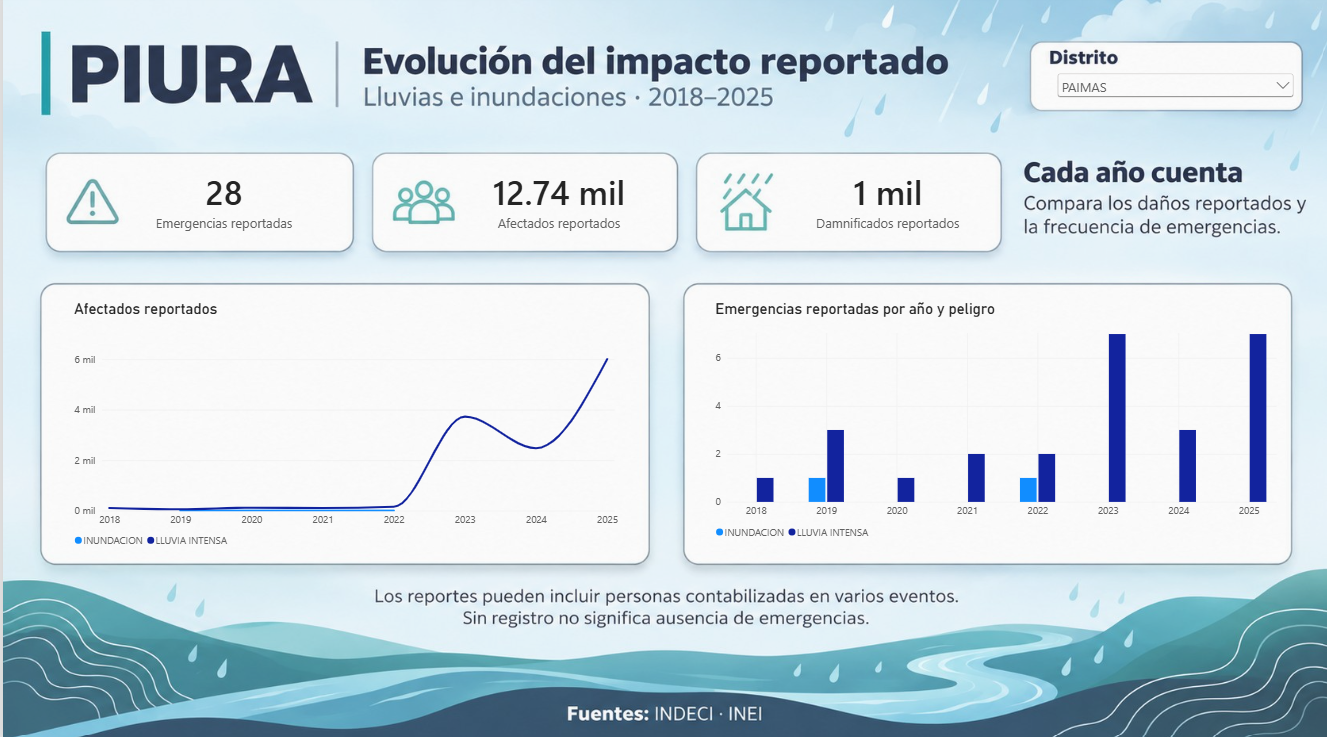

The dashboard page shown, as its layout file describes it:
{"tool":"powerbi","page":{"name":"Evolución temporal","canvas":[1920,1080],"ordinal":1},"visuals":[{"type":"lineChart","title":"Afectados reportados","fields":{"Category":["vw_panel_distital.anio"],"Series":["vw_panel_distital.peligro"],"Y":["Sum(vw_panel_distital.afectados_reportados)"]},"box":[86.9,428.9,819.8,392.7],"z":0},{"type":"cardVisual","fields":{"Data":["vw_panel_distrital.Afectados reportados"]},"box":[628,229.8,354.7,139.3],"z":1000},{"type":"slicer","title":"dwe","fields":{"Values":["vw_panel_distital.distrito"]},"box":[1521.9,110.4,351.1,67],"z":1001},{"type":"clusteredColumnChart","title":"Emergencias reportadas por año y peligro","fields":{"Category":["vw_panel_distital.anio"],"Series":["vw_panel_distital.peligro"],"Y":["Sum(vw_panel_distital.emergencias)"]},"box":[1015.2,428.9,845.1,380],"z":1002},{"type":"cardVisual","fields":{"Data":["vw_panel_distrital.Emergencias reportadas"]},"box":[143,229.8,354.7,139.3],"z":1003},{"type":"cardVisual","fields":{"Data":["vw_panel_distrital.Damnificados reportados"]},"box":[1103.9,229.8,354.7,139.3],"z":1004}]}

Visuals, with their boxes in screenshot pixels (x1, y1, x2, y2), scaled from the page's 1920x1080 canvas onto the 1327x737 screenshot:
"Afectados reportados" lineChart: 60, 293, 627, 561
cardVisual - vw_panel_distrital.Afectados reportados: 434, 157, 679, 252
"dwe" slicer: 1052, 75, 1295, 121
"Emergencias reportadas por año y peligro" clusteredColumnChart: 702, 293, 1286, 552
cardVisual - vw_panel_distrital.Emergencias reportadas: 99, 157, 344, 252
cardVisual - vw_panel_distrital.Damnificados reportados: 763, 157, 1008, 252
